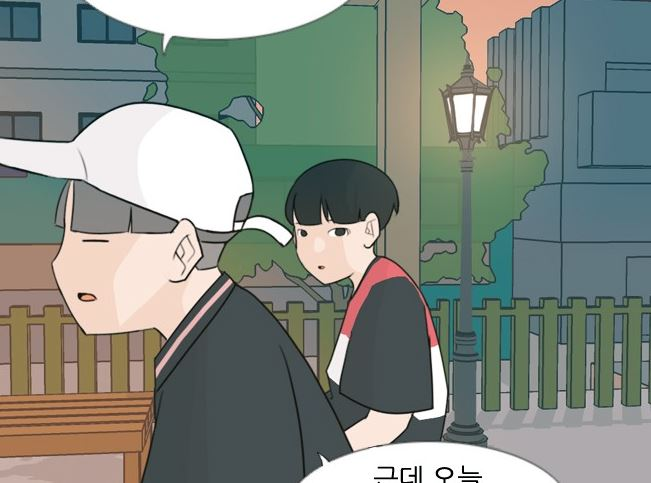hat: (5, 90, 257, 235)
